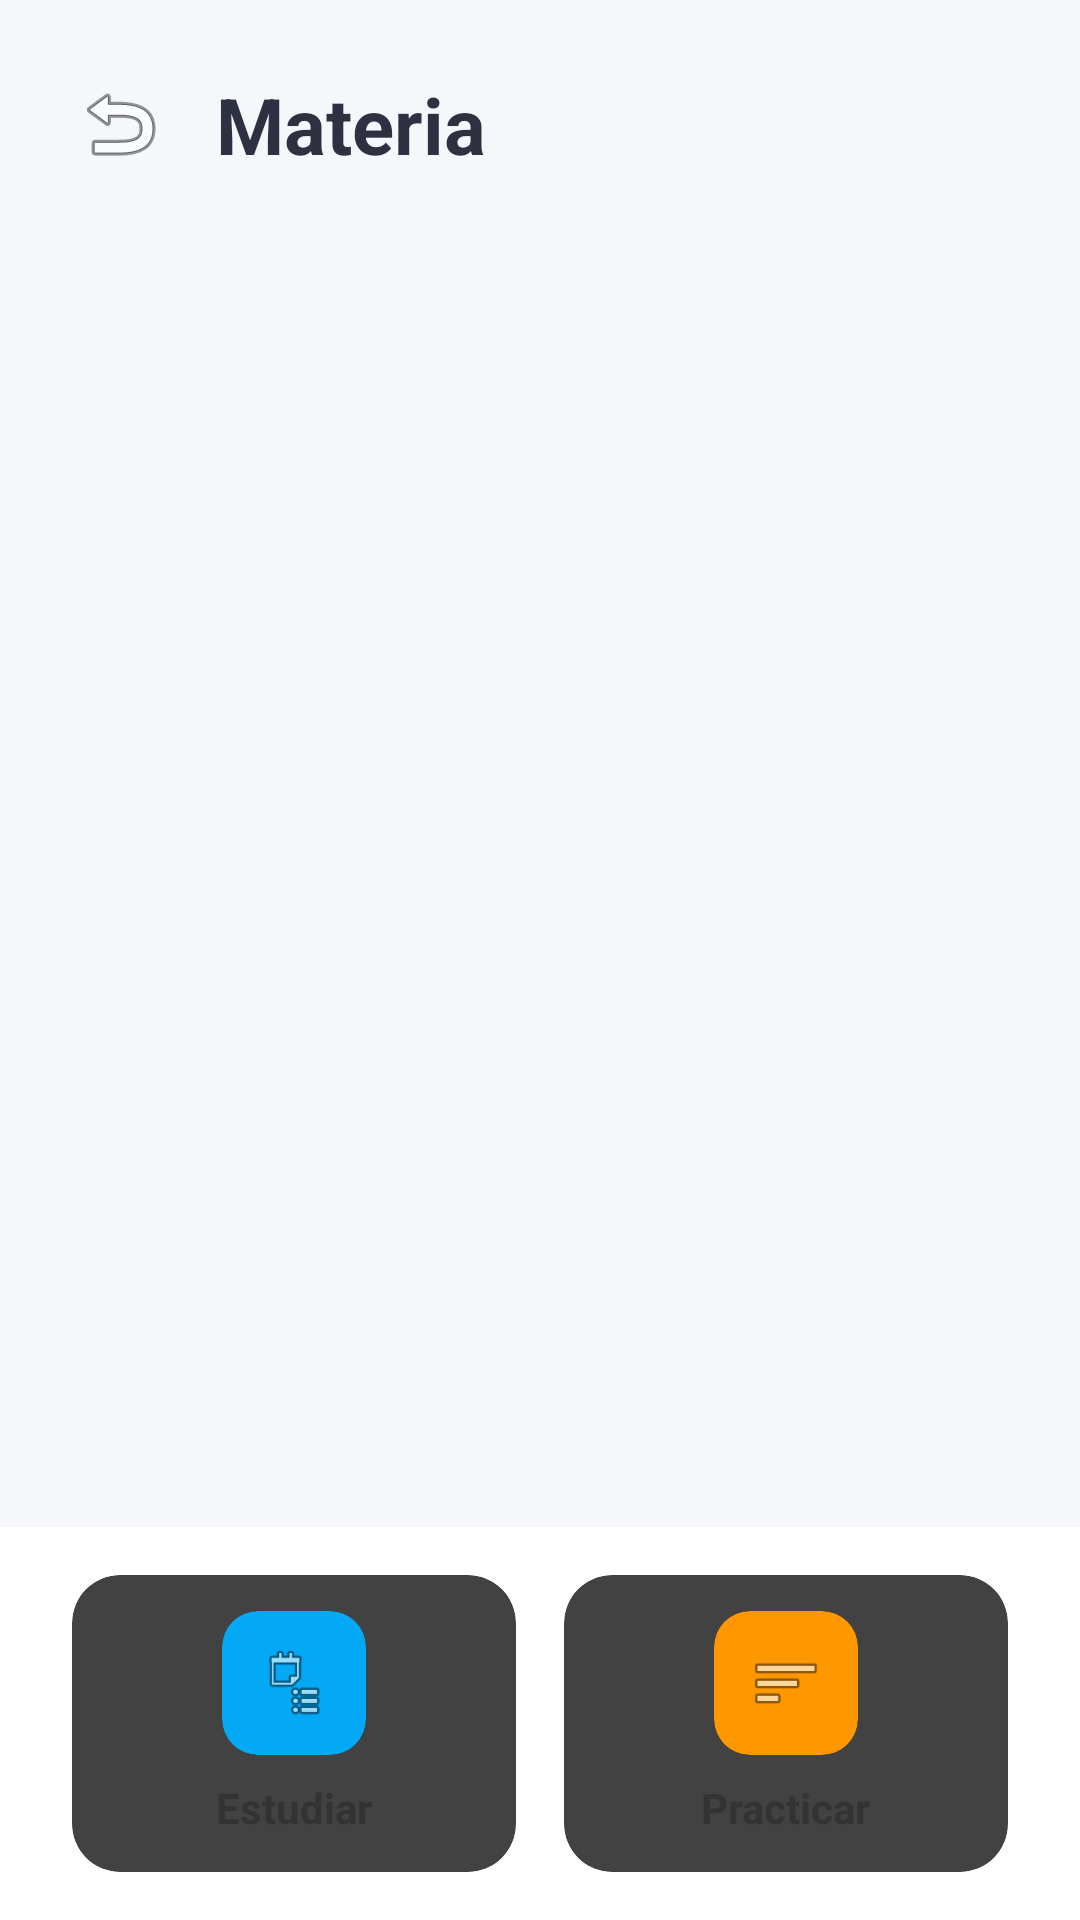

Screen size 1080×1920. Icon name, then its center in pixels as (x=x, y=y):
agenda: (x=294, y=1683)
revert: (x=121, y=124)
sort by size: (x=786, y=1683)
